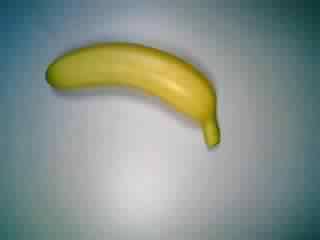banana: (42, 37, 227, 155)
